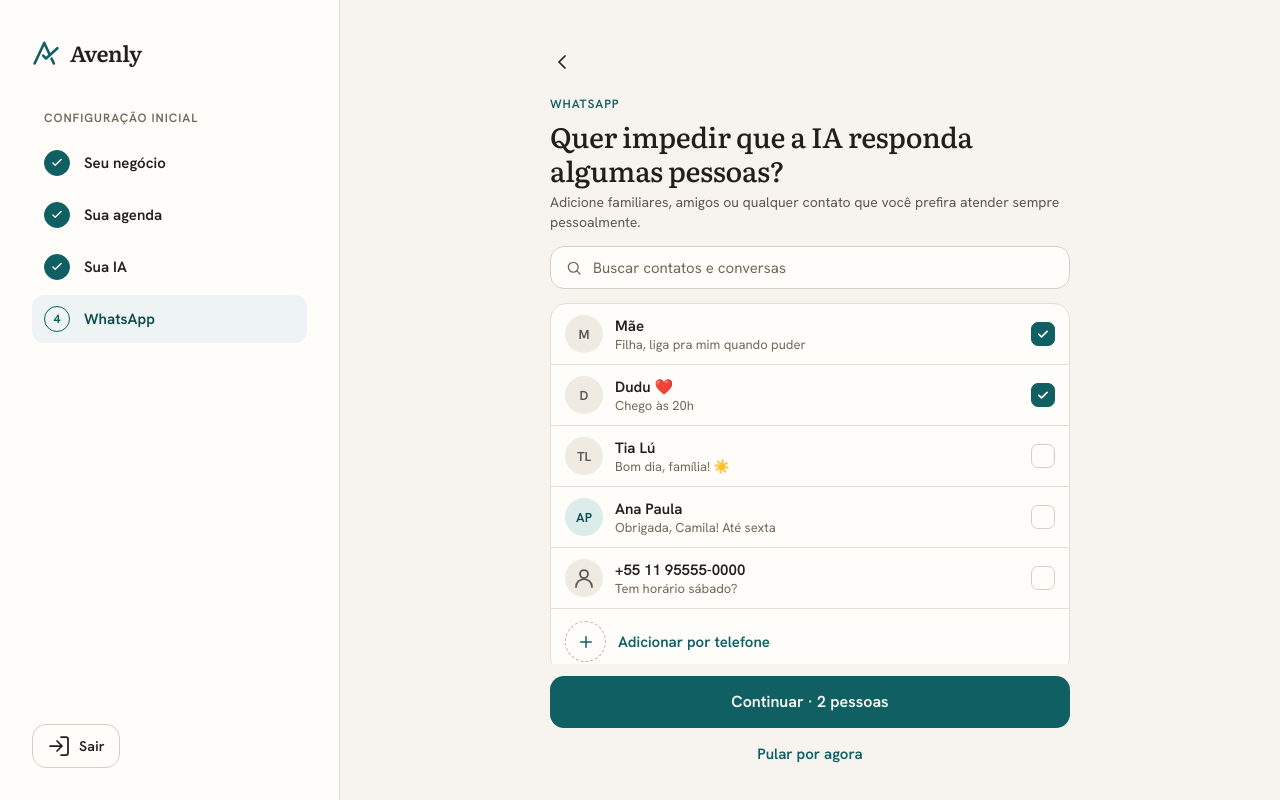
Test case: 4.5: busca e telefone › a busca lê de novo com `search`, sem o filtro `ignored`
Expected: the checkbox labelled "Mãe" is shown, [551,304,1069,364]
Type "ana" into the search field labelled "Buscar contatos e conversas".
click(824, 268); type("ana")  # box [593,247,1055,288]
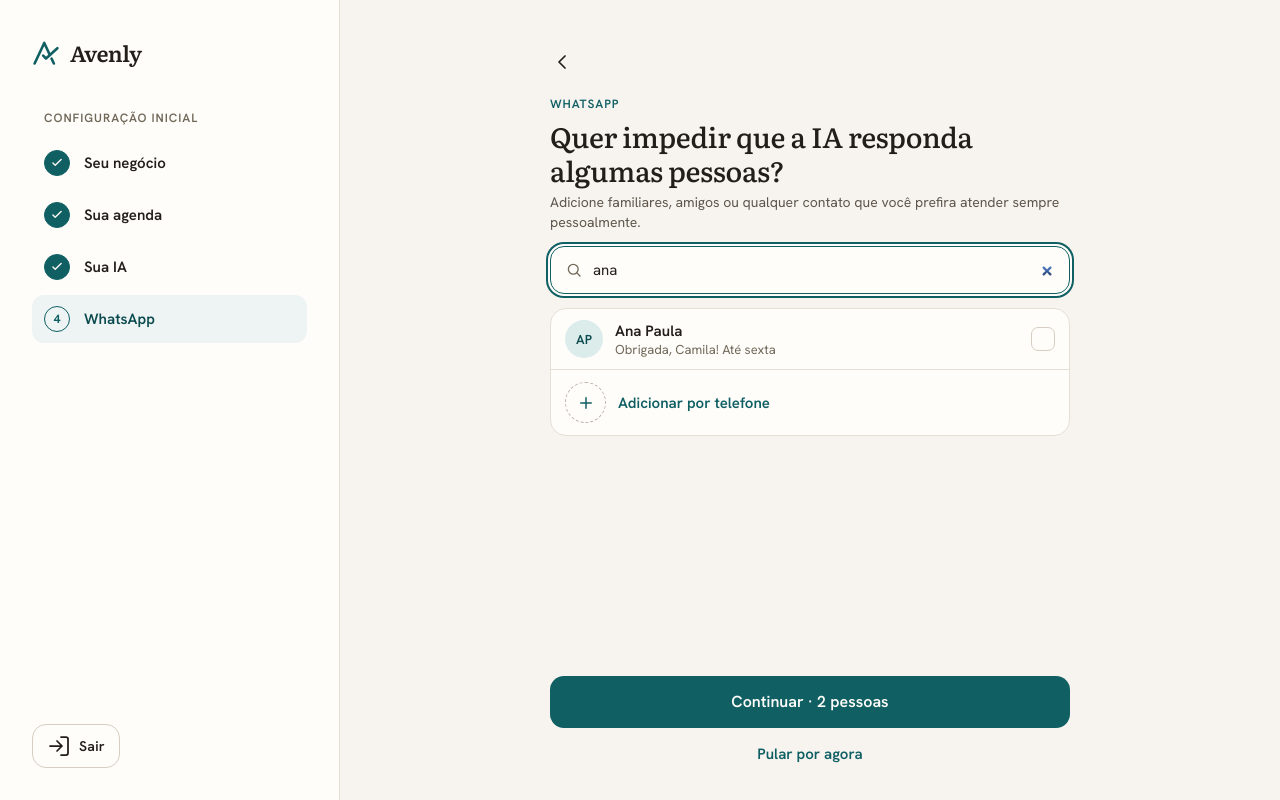
Expected: the checkbox labelled "Ana Paula" is shown, [551,309,1069,369]
Now the checkbox labelled "Mãe" is gone
